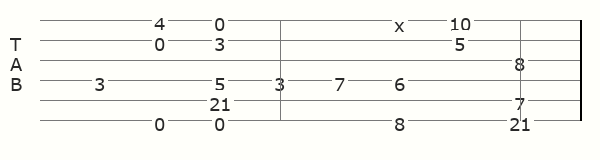0: (154, 112, 169, 129), (154, 32, 169, 49), (214, 112, 229, 129), (214, 12, 229, 29)
10: (449, 12, 475, 29)
21: (209, 92, 235, 109), (509, 112, 535, 129)
3: (94, 72, 109, 89), (214, 32, 229, 49), (274, 72, 289, 89)
4: (154, 12, 169, 29)
5: (214, 72, 229, 89), (454, 32, 469, 49)
6: (394, 72, 409, 89)
7: (334, 72, 349, 89), (514, 92, 529, 109)
8: (394, 112, 409, 129), (514, 52, 529, 69)
x: (394, 13, 409, 27)
